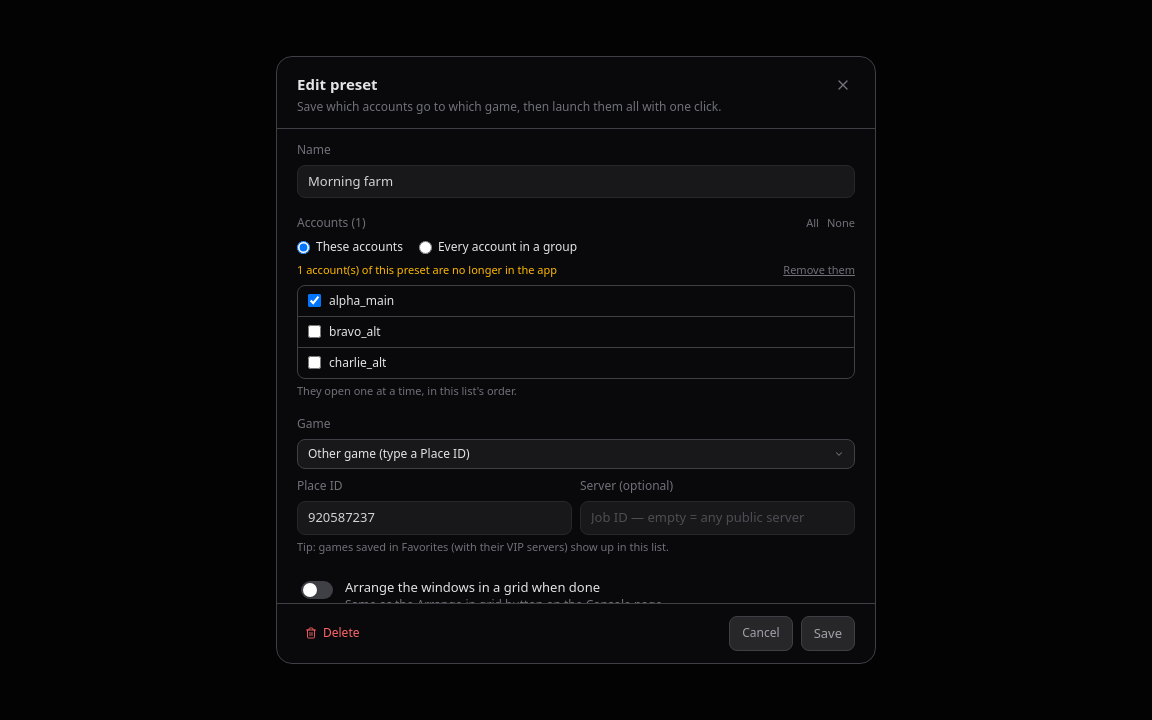
it: PresetsDialog — editor › accounts no longer in the app are shown apart, can be removed, and do not count
Check: the text "Accounts (1)" is shown, box 297,214 -> 366,232
Check: the text "1 account(s) of this preset are no longer in the app" is shown, box 297,262 -> 557,278
Click the button "Remove them".
click(819, 270)  # box 783,262 -> 855,278
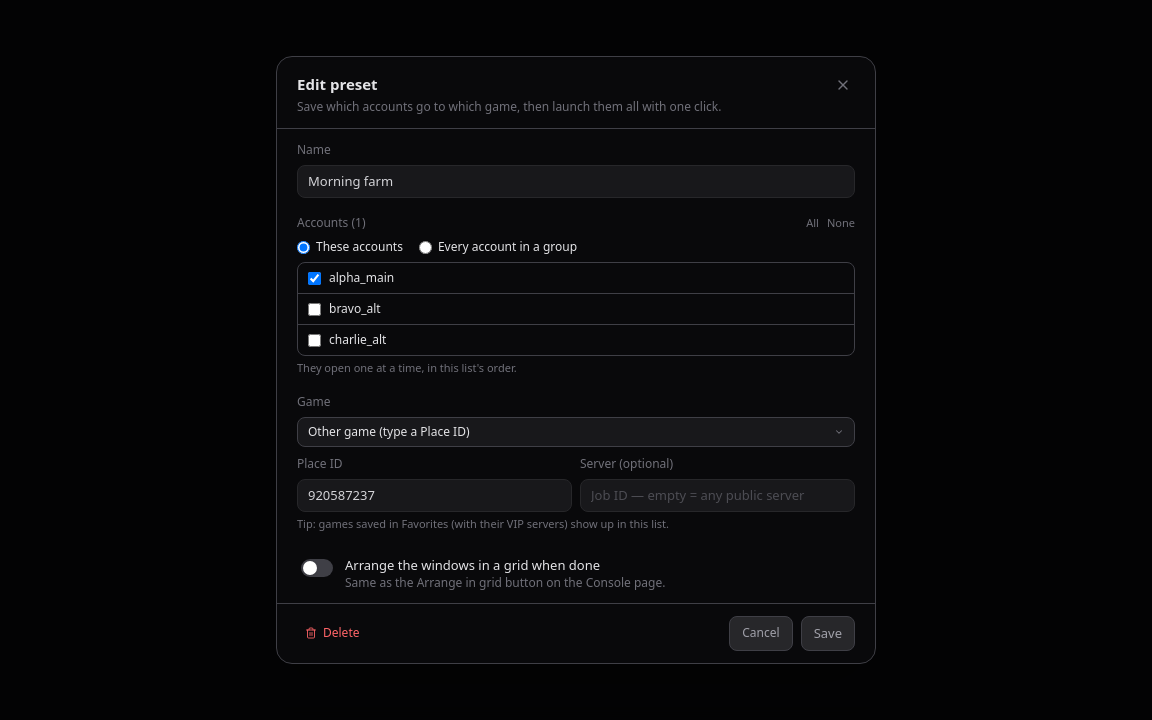
Check: the text "no longer in the app" is gone
